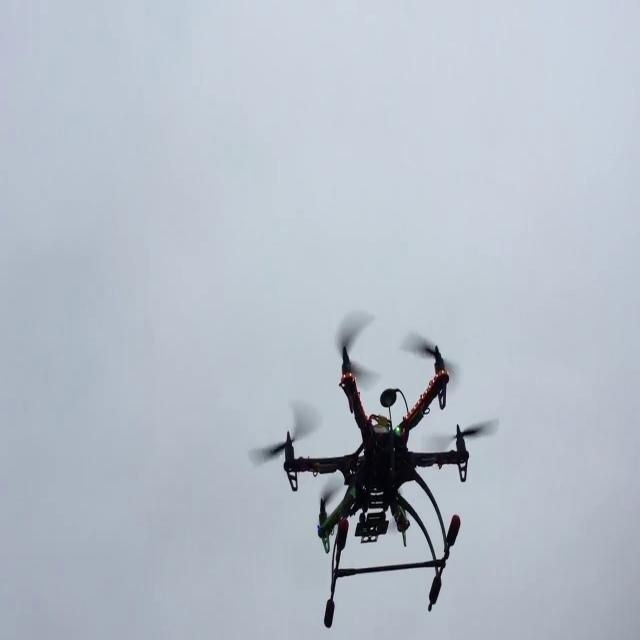drone: (219, 297, 481, 624)
